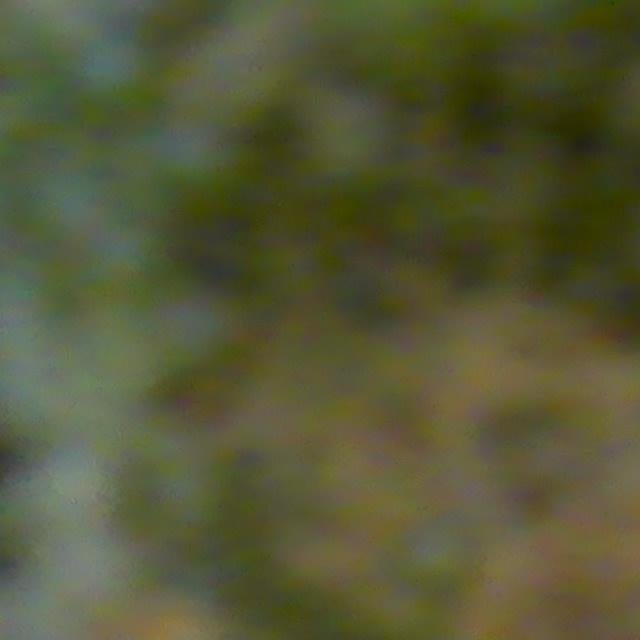SeaGrape: (71, 28, 158, 112)
